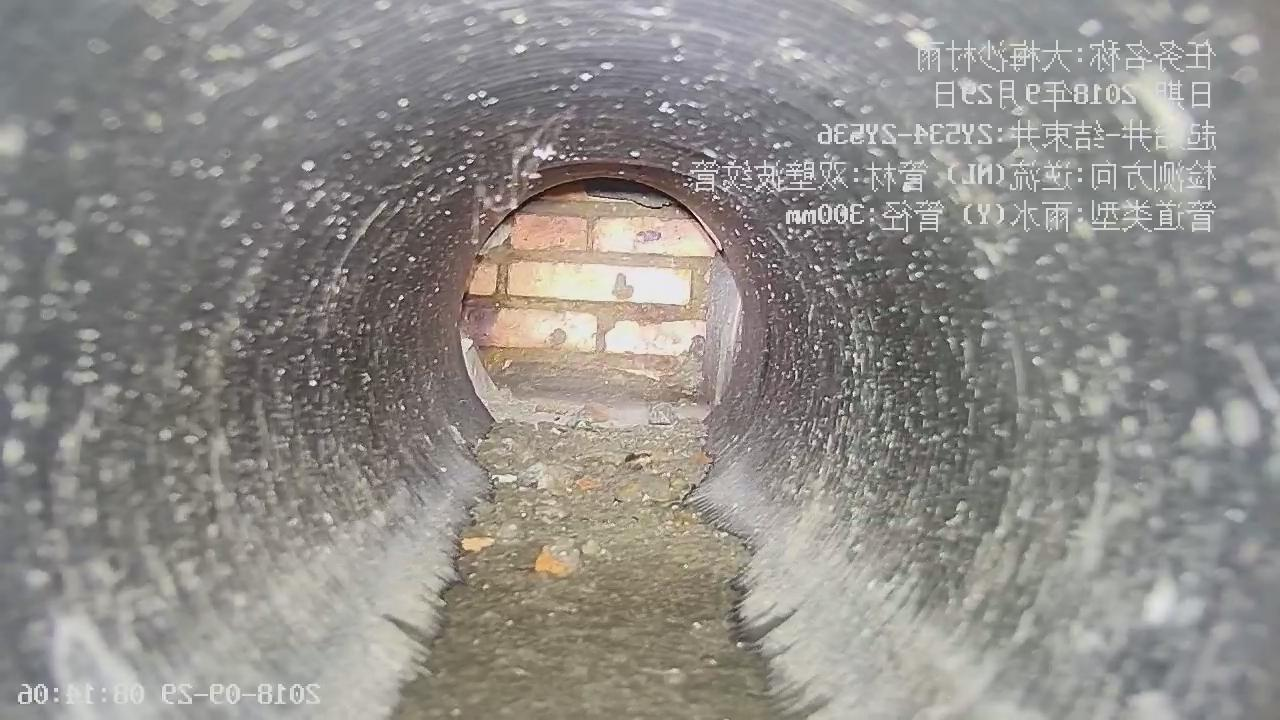CJ: (395, 425, 789, 719)
CQBG: (458, 181, 747, 433)
